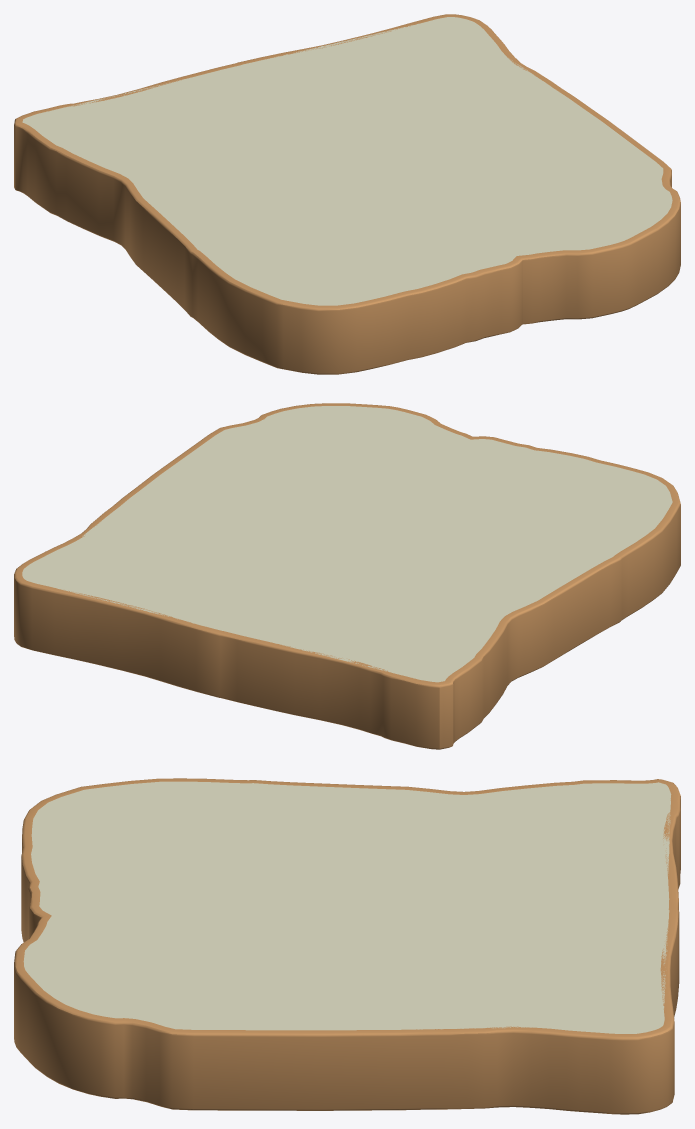
File: toast.fbx
3 renders of one model, top to bottom at view 1: azimuth 30°, elevation 25°; view 2: azimuth 150°, elevation 25°; view 3: azimuth 270°, elevation 25°, orthographic. The views are drawn at different scales.
Parts seen in each view (by area): view 1: toast; view 2: toast; view 3: toast.
Part boxes in pixels (box(x1,y1,x2,y2)): toast: box(14, 14, 680, 374); toast: box(14, 403, 680, 749); toast: box(14, 778, 680, 1114).
Bounding box in the file's own units: 278 × 38.44 × 301.
